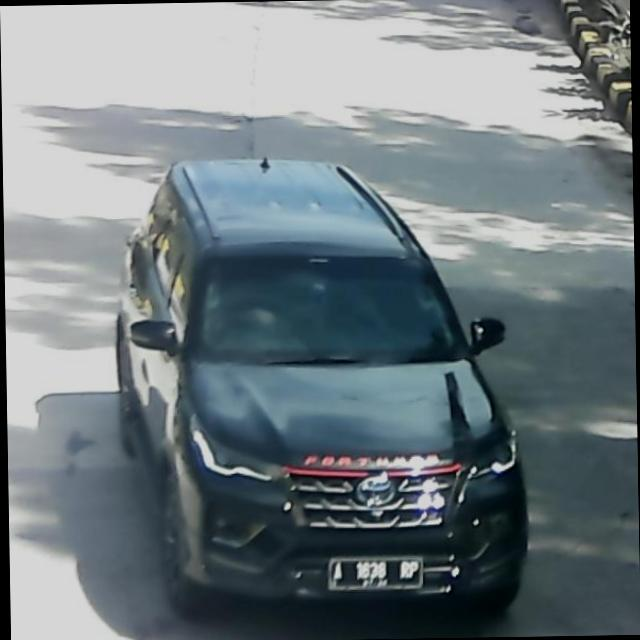plate: (327, 552, 426, 592)
